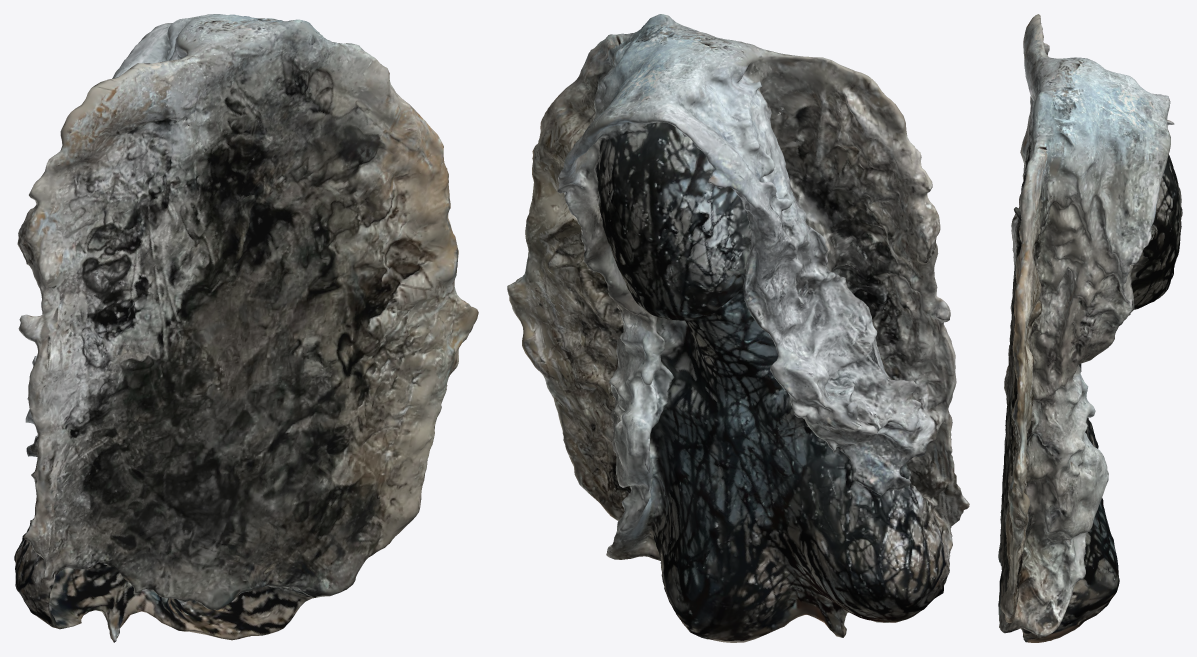
File: FA-007-original.glb
3 views of the same model, side by side, from view 1: azimuth 30°, elevation 25°; view 2: azimuth 150°, elevation 25°; view 3: azimuth 270°, elevation 25° (orthographic). The views are drawn at different scales.
Parts seen in each view (by area): view 1: 3DModel; view 2: 3DModel; view 3: 3DModel.
Boxes of the visible parts, box(x1,y1,x2,y2) form: 3DModel: box(14, 14, 478, 642); 3DModel: box(507, 14, 969, 642); 3DModel: box(998, 14, 1182, 642).
Size of the model in its own units: 0.6243 by 0.7877 by 0.2322.
Materials: 1 (1 with a texture image).
